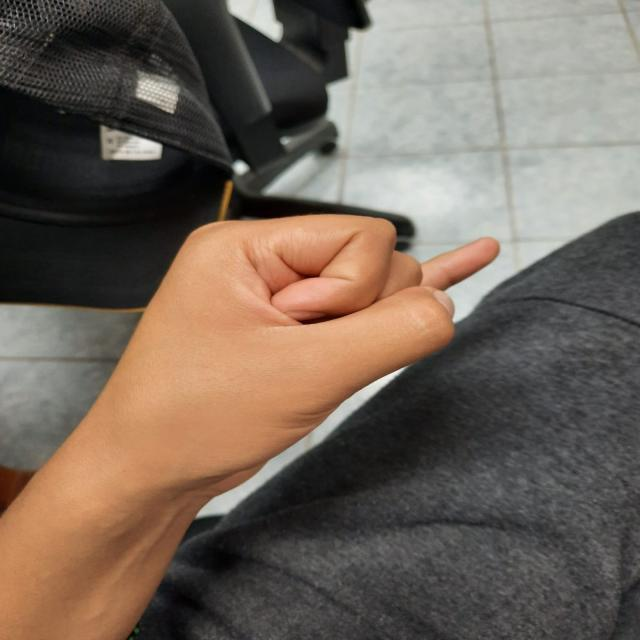Z: (71, 185, 528, 531)
